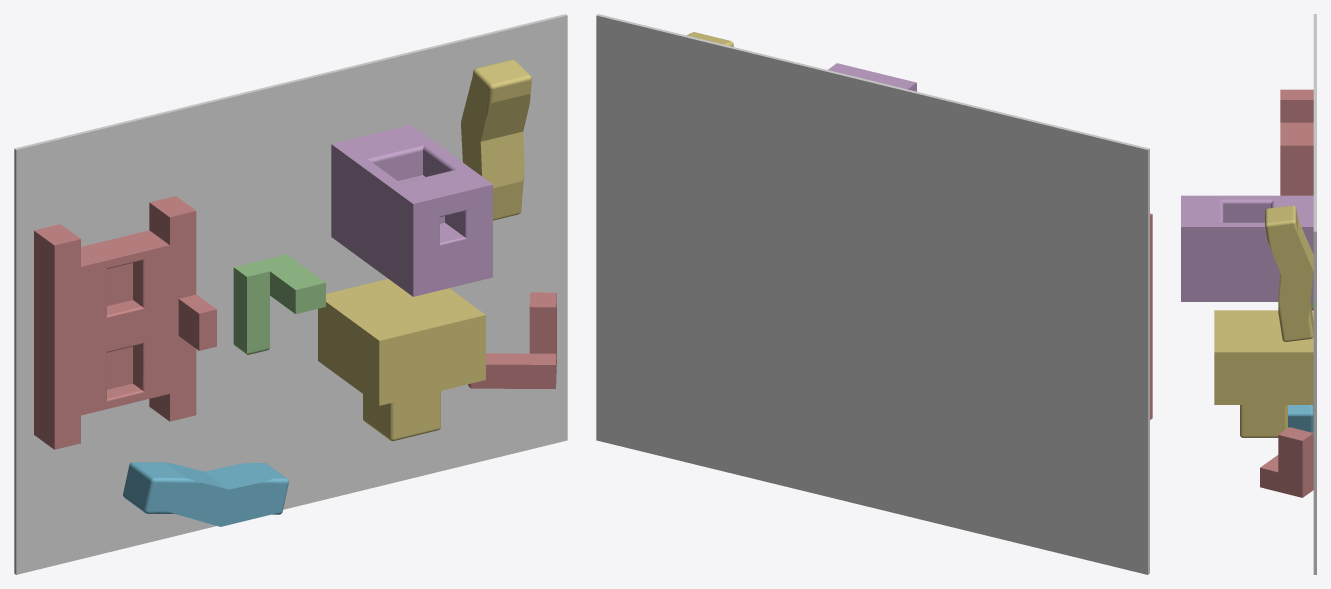
File: pickup_layout.glb
The picture shows the model from 3 angles, left to right: view 1: azimuth 30°, elevation 25°; view 2: azimuth 150°, elevation 25°; view 3: azimuth 270°, elevation 25°; orthographic projection. The views are drawn at different scales.
Parts seen in each view (by area): view 1: world, 0.obj, 3.obj, 6.obj, 2.obj, 1.obj, 4.obj, 5.obj; view 2: world, 3.obj; view 3: 3.obj, 6.obj, 1.obj, 0.obj, 5.obj, world, 2.obj.
Boxes of the visible parts, x1=… form: world: x1=14, y1=14, x2=567, y2=574; 0.obj: x1=34, y1=196, x2=216, y2=449; 3.obj: x1=331, y1=124, x2=492, y2=296; 6.obj: x1=318, y1=279, x2=485, y2=441; 2.obj: x1=123, y1=462, x2=288, y2=526; 1.obj: x1=461, y1=59, x2=531, y2=220; 4.obj: x1=233, y1=254, x2=325, y2=354; 5.obj: x1=468, y1=292, x2=556, y2=388; world: x1=596, y1=14, x2=1149, y2=574; 3.obj: x1=828, y1=63, x2=916, y2=91; 3.obj: x1=1181, y1=195, x2=1313, y2=301; 6.obj: x1=1214, y1=310, x2=1313, y2=437; 1.obj: x1=1265, y1=205, x2=1313, y2=341; 0.obj: x1=1280, y1=89, x2=1313, y2=310; 5.obj: x1=1260, y1=427, x2=1313, y2=497; world: x1=1313, y1=14, x2=1316, y2=574; 2.obj: x1=1288, y1=405, x2=1313, y2=432.
Size of the model in its own units: 31.08 by 22.88 by 8.2.
